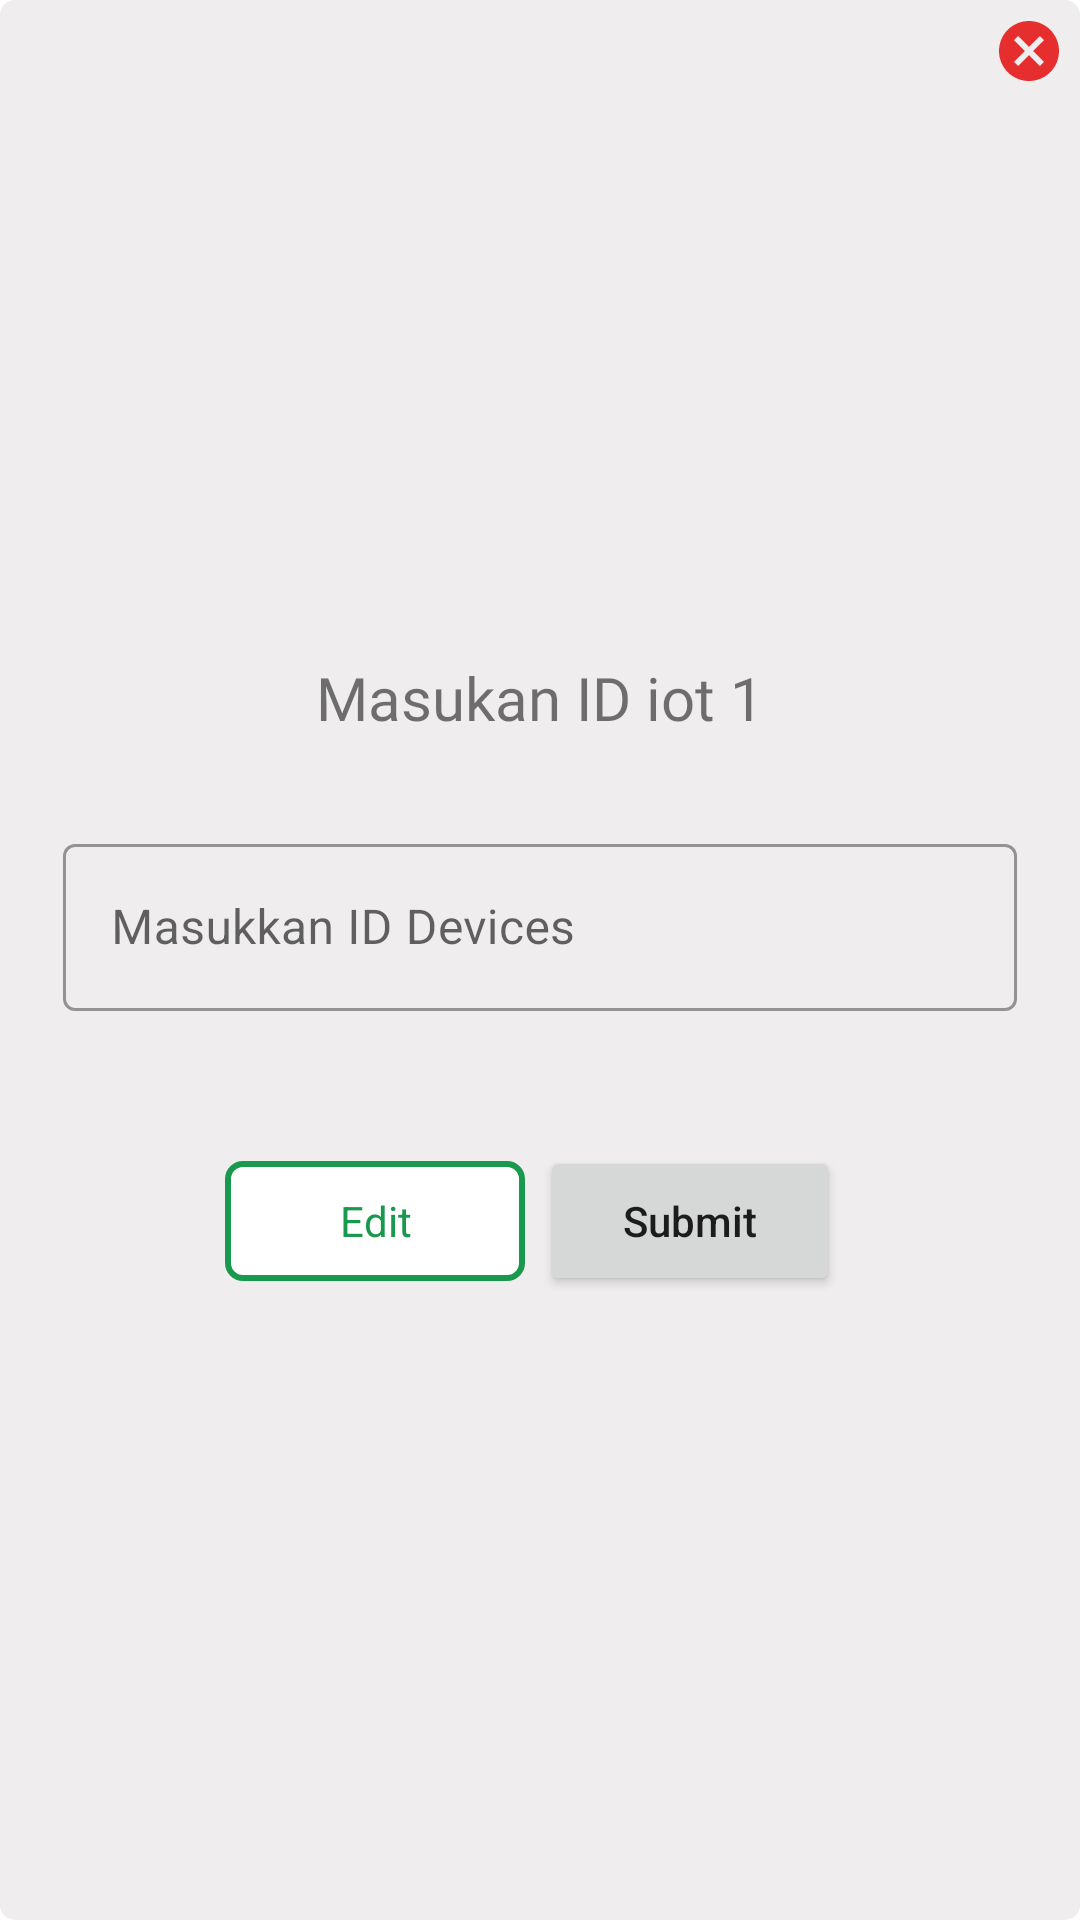

Named icons in this screenshot (1080 x 1920) and their bounding boxes, (x1, y1, x2, y2):
cancel: (999, 21, 1059, 81)
